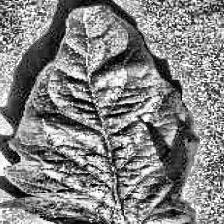spider mites: (0, 4, 200, 224)
